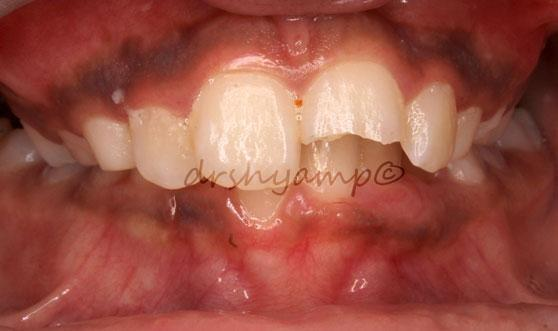Fractured Teeth: (300, 59, 404, 150)
